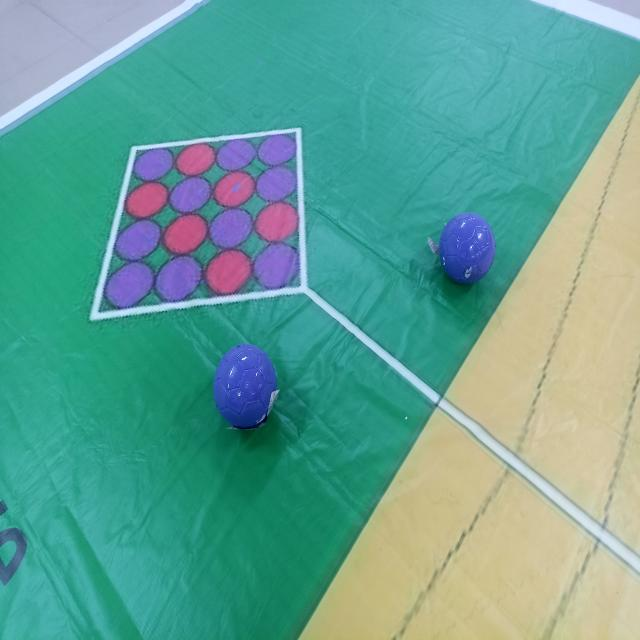purple_ball: (210, 343, 280, 432), (437, 210, 492, 290)
